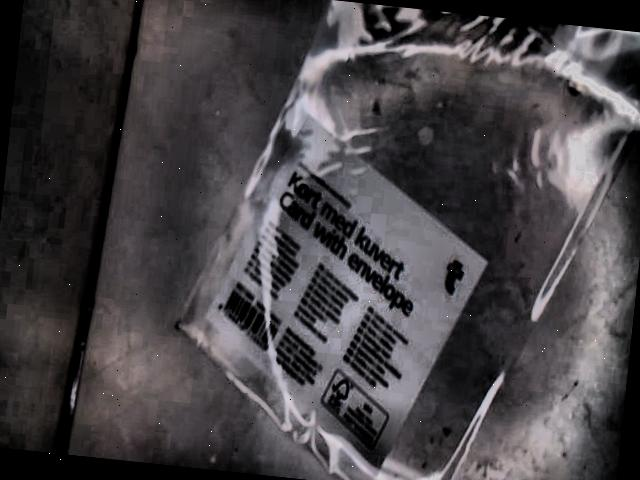Plastic: (174, 0, 640, 480)
